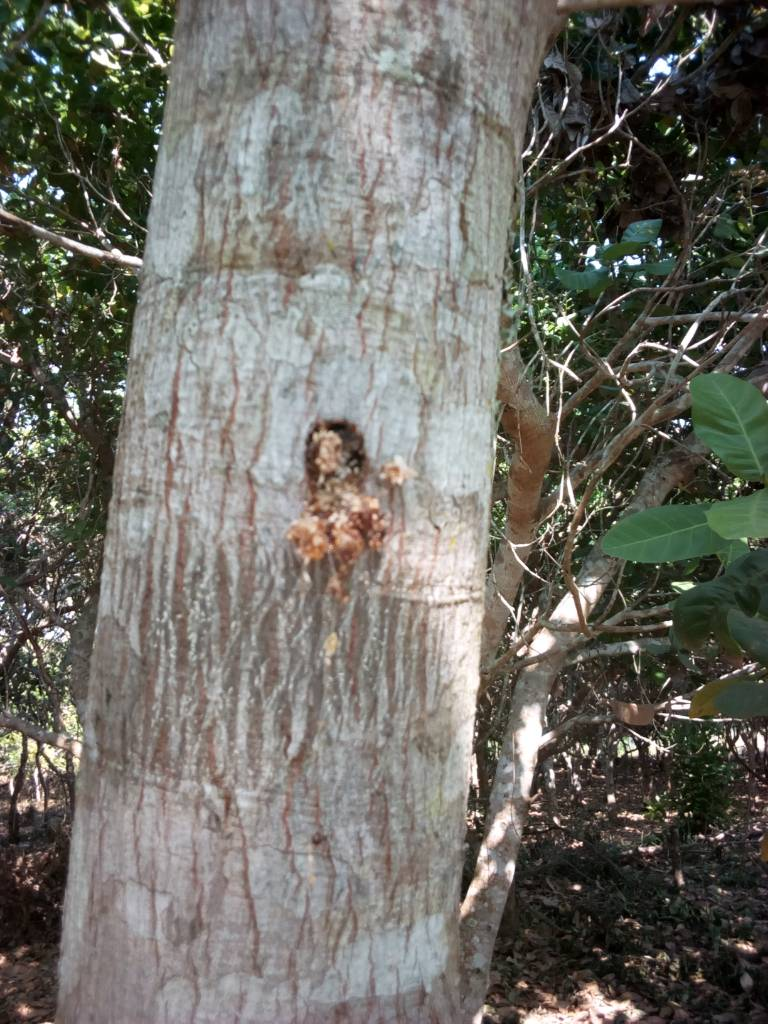Apate terebrans: (230, 401, 454, 533)
